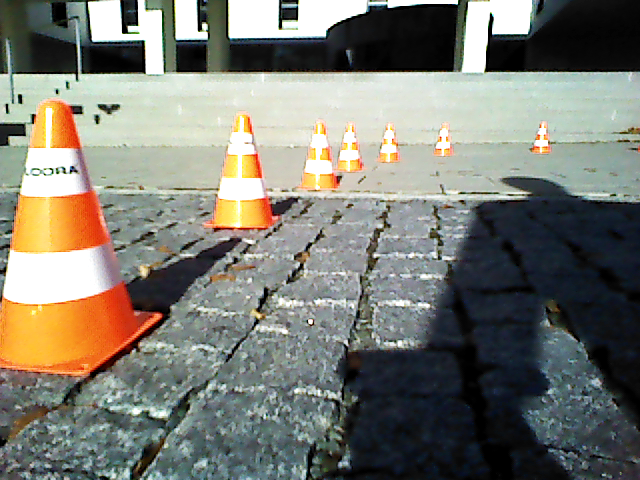orangeconesmall: (1, 98, 153, 370), (207, 115, 279, 229), (299, 124, 338, 191), (338, 124, 363, 173), (379, 124, 399, 164), (529, 123, 552, 154), (434, 124, 454, 157)
